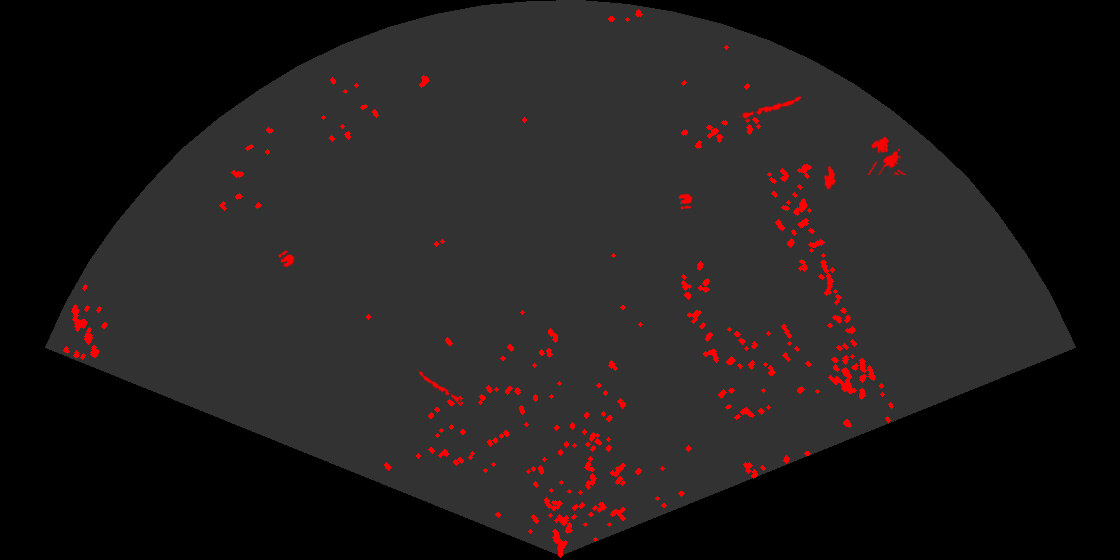AUV: (823, 164, 837, 191)
ball: (277, 249, 296, 269), (677, 192, 694, 211)
cage: (866, 135, 908, 175)
chain: (414, 369, 462, 405), (739, 95, 804, 121)
